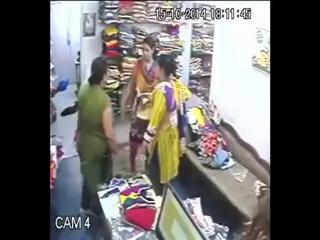Normal: (76, 57, 120, 233), (142, 54, 182, 196), (122, 35, 160, 174)
